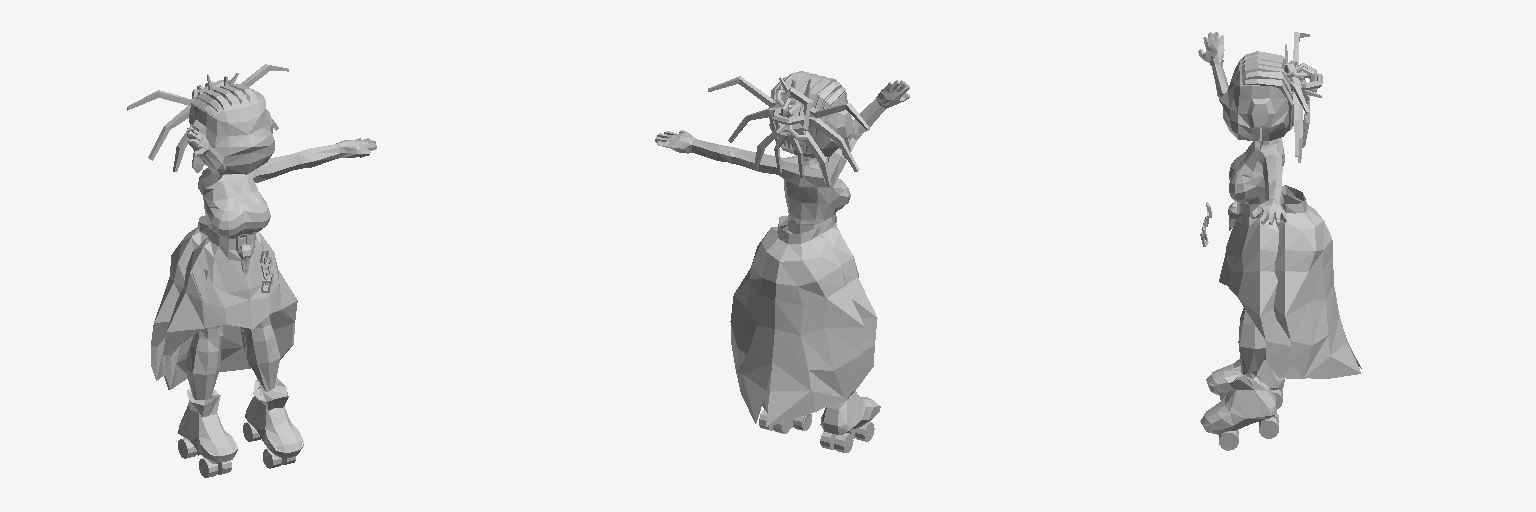
Rendered from WitchFINAL2_000028.obj.
3 views of the same model, side by side, from view 1: azimuth 30°, elevation 25°; view 2: azimuth 150°, elevation 25°; view 3: azimuth 270°, elevation 25° (orthographic).
Visible parts, largest first — view 1: Body_Cylinder, Torso(Boobies)_Cylinder.002, LegR_Cube.004, LegL_Cube.003, Head_Cylinder.004, ZBody_Cylinder.001, Hair_Cylinder.006, Tail.001_Torus.001; view 2: ZBody_Cylinder.001, Torso(Boobies)_Cylinder.002, Body_Cylinder, LegR_Cube.004, Hair_Cylinder.006, Tail.001_Torus.001, Tail_Torus, Tail.002_Torus.002, Head_Cylinder.004, LegL_Cube.003; view 3: ZBody_Cylinder.001, Body_Cylinder, LegL_Cube.003, Torso(Boobies)_Cylinder.002, Head_Cylinder.004, Hair_Cylinder.006, LegR_Cube.004, Tail_Torus, Tail.002_Torus.002.
Boxes of the visible parts, <box> form: Body_Cylinder: <box>163,229,297,389</box>; Torso(Boobies)_Cylinder.002: <box>187,124,376,239</box>; LegR_Cube.004: <box>178,269,237,477</box>; LegL_Cube.003: <box>243,316,303,468</box>; Head_Cylinder.004: <box>191,88,274,174</box>; ZBody_Cylinder.001: <box>151,215,208,380</box>; Hair_Cylinder.006: <box>189,83,265,124</box>; Tail.001_Torus.001: <box>127,90,196,171</box>; ZBody_Cylinder.001: <box>730,216,864,426</box>; Torso(Boobies)_Cylinder.002: <box>655,80,909,224</box>; Body_Cylinder: <box>763,215,877,412</box>; LegR_Cube.004: <box>820,390,880,452</box>; Hair_Cylinder.006: <box>769,71,845,153</box>; Tail.001_Torus.001: <box>787,103,869,186</box>; Tail_Torus: <box>773,77,812,139</box>; Tail.002_Torus.002: <box>708,76,787,173</box>; Head_Cylinder.004: <box>769,79,854,158</box>; LegL_Cube.003: <box>759,404,811,433</box>; ZBody_Cylinder.001: <box>1273,185,1361,378</box>; Body_Cylinder: <box>1219,199,1305,378</box>; LegL_Cube.003: <box>1200,308,1278,450</box>; Torso(Boobies)_Cylinder.002: <box>1198,32,1287,224</box>; Head_Cylinder.004: <box>1219,59,1290,140</box>; Hair_Cylinder.006: <box>1242,51,1300,130</box>; LegR_Cube.004: <box>1206,357,1284,408</box>; Tail_Torus: <box>1282,44,1322,102</box>; Tail.002_Torus.002: <box>1290,82,1309,162</box>.
Size of the model in its own units: 10.66 by 16.8 by 6.58.